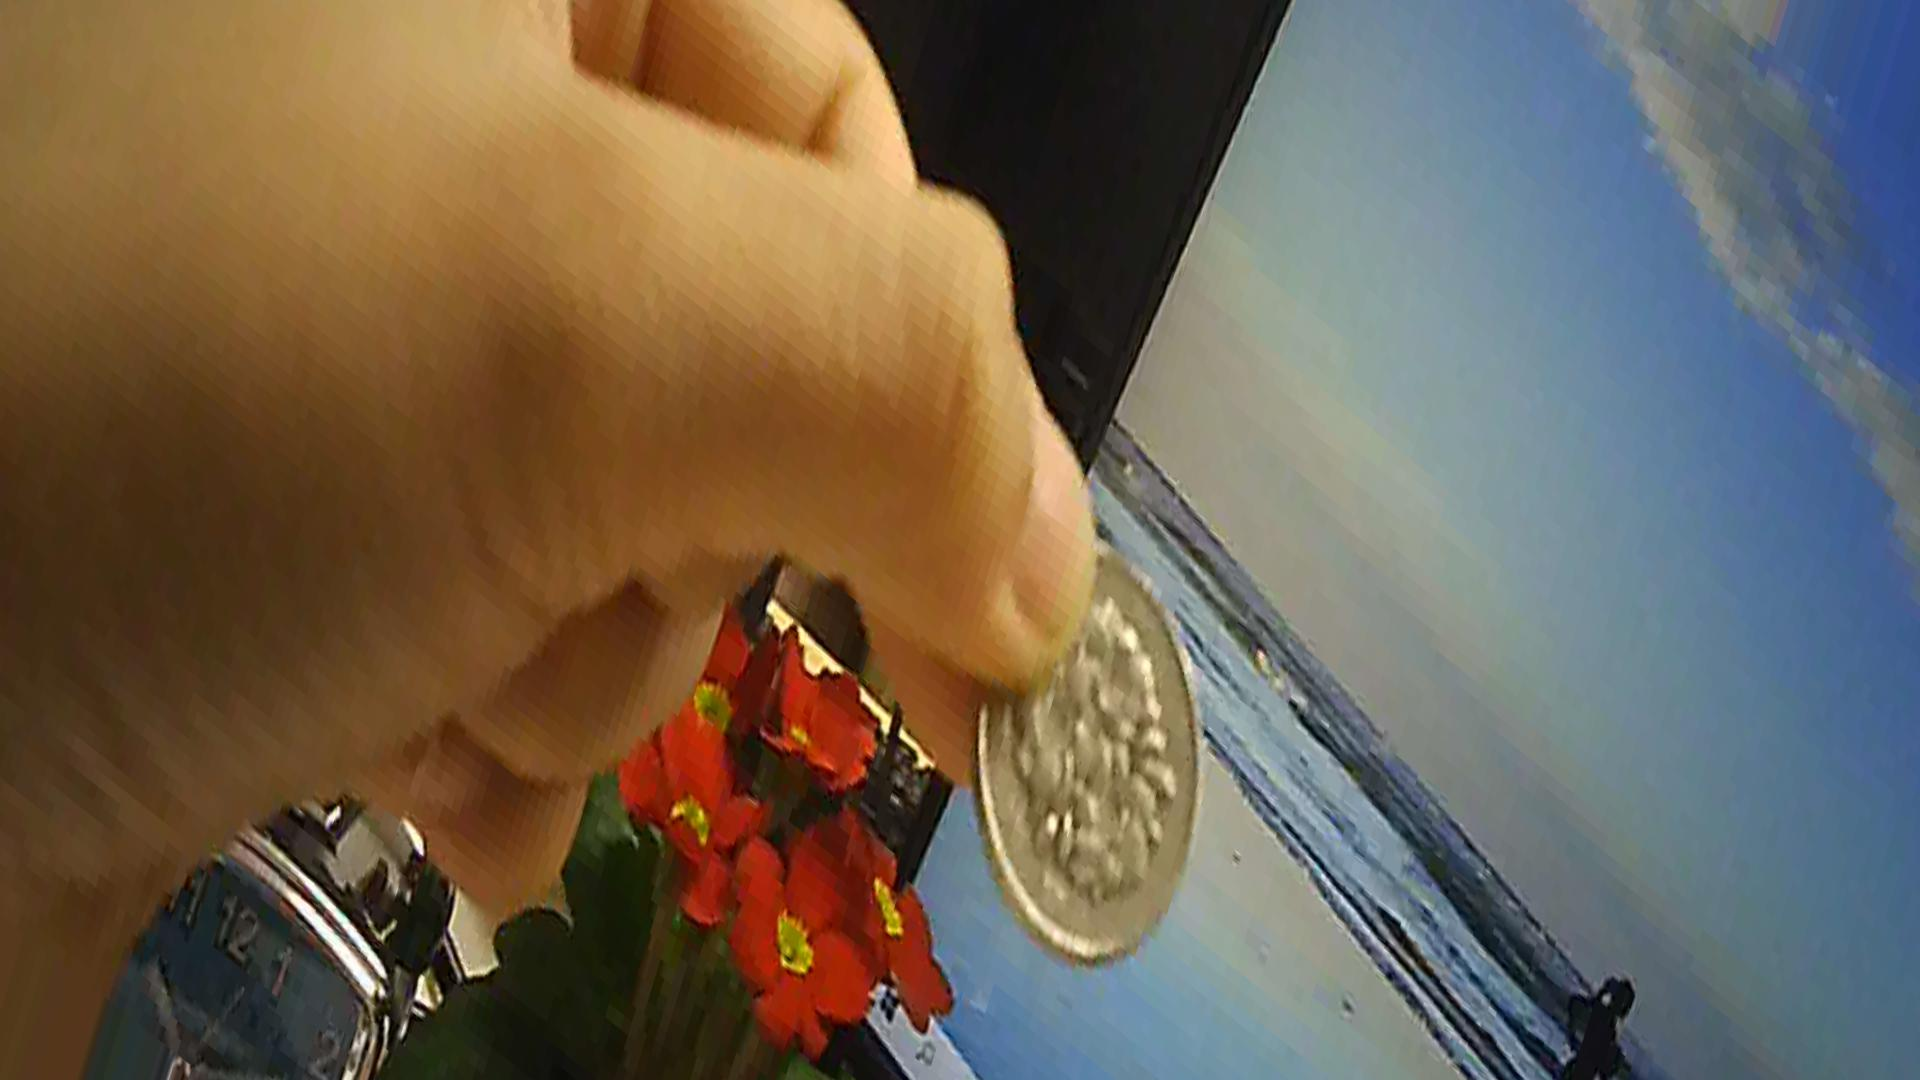100 Yen: (949, 527, 1215, 980)
